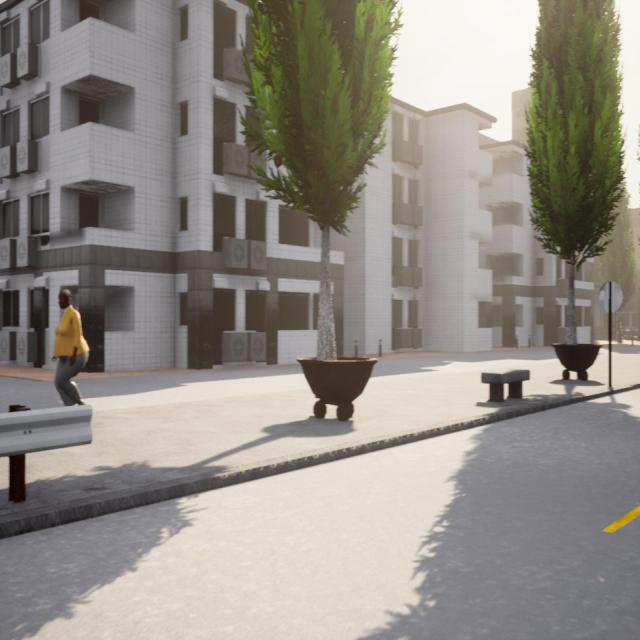Pedestrian: (52, 289, 89, 405)
Traffic_Signs: (596, 279, 624, 317)
